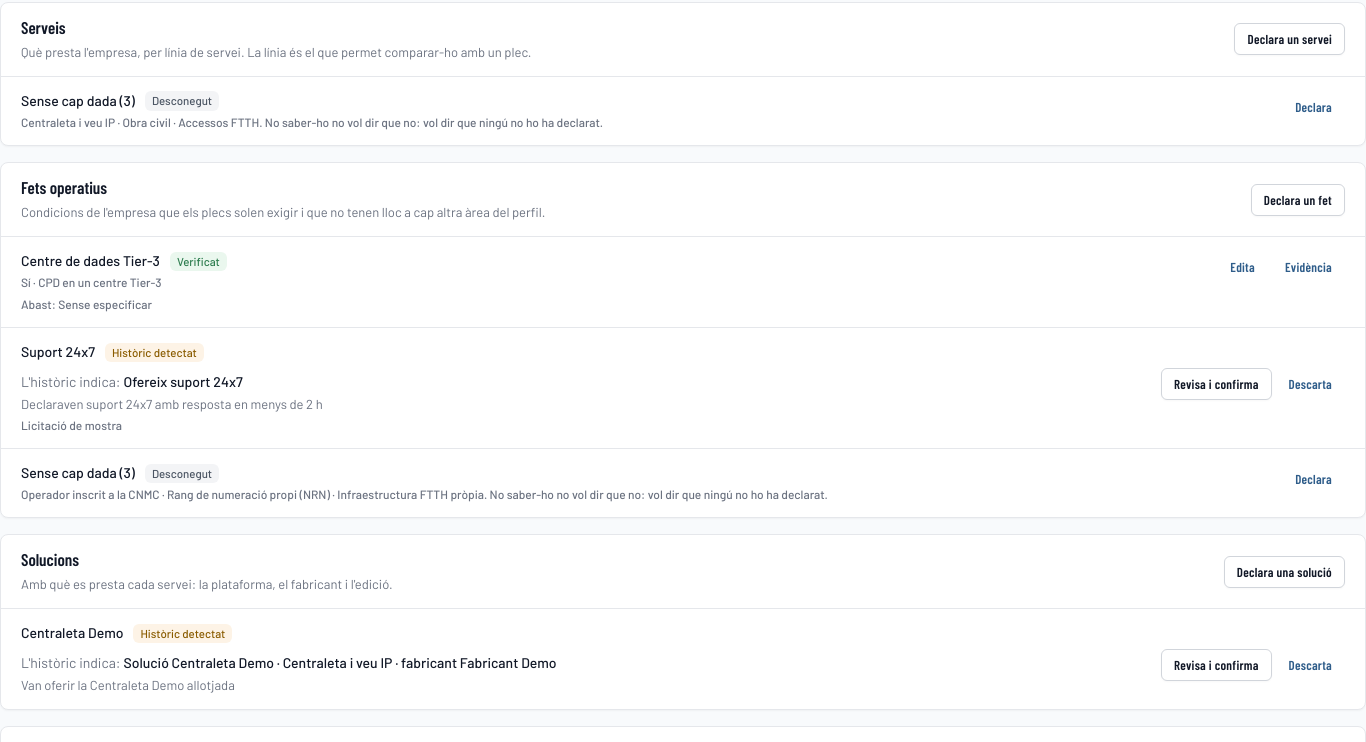
Scenario: Coneixement de l'empresa › confirmar un candidat el promou a declarat, mai a verificat, i ho diu abans
(page scrolled)
What coordinates should you click on to do the following:
click the button with aria-label "Revisa i confirma: Suport 24x7"
I would click on:
 (1216, 384)
Its box is [1161,368,1272,400].
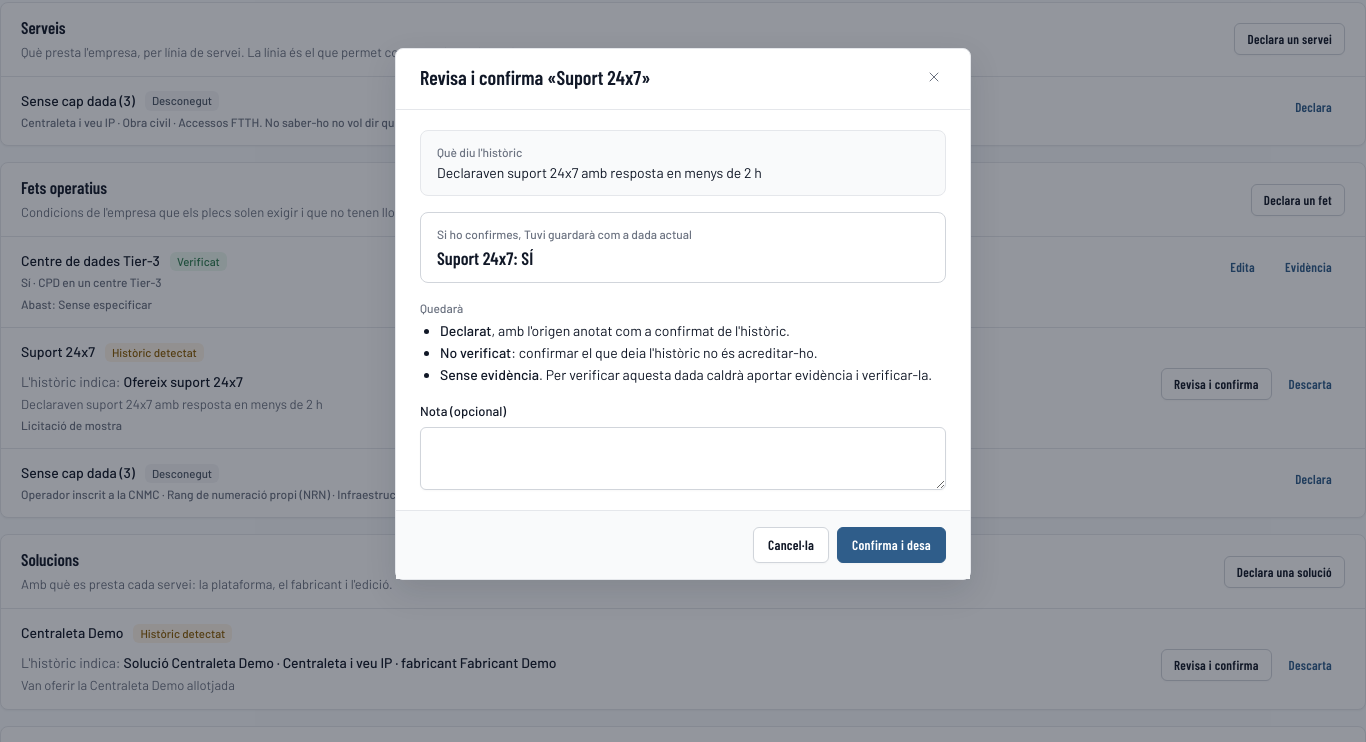
Now the dialog "Revisa i confirma «Suport 24x7»" shows "Declaraven suport 24x7", box [437,164,762,181]
Now the element showing "Suport 24x7: SÍ" is shown, box [437,247,533,269]
Now the list named "Com quedarà" shows "Per verificar aquesta dada caldrà aportar evidència i verificar-la.", box [539,366,932,382]
What coordinates should you click on to do the following:
click the button "Confirma i desa"
I would click on:
 (892, 545)
Its box is [837,527,946,563].
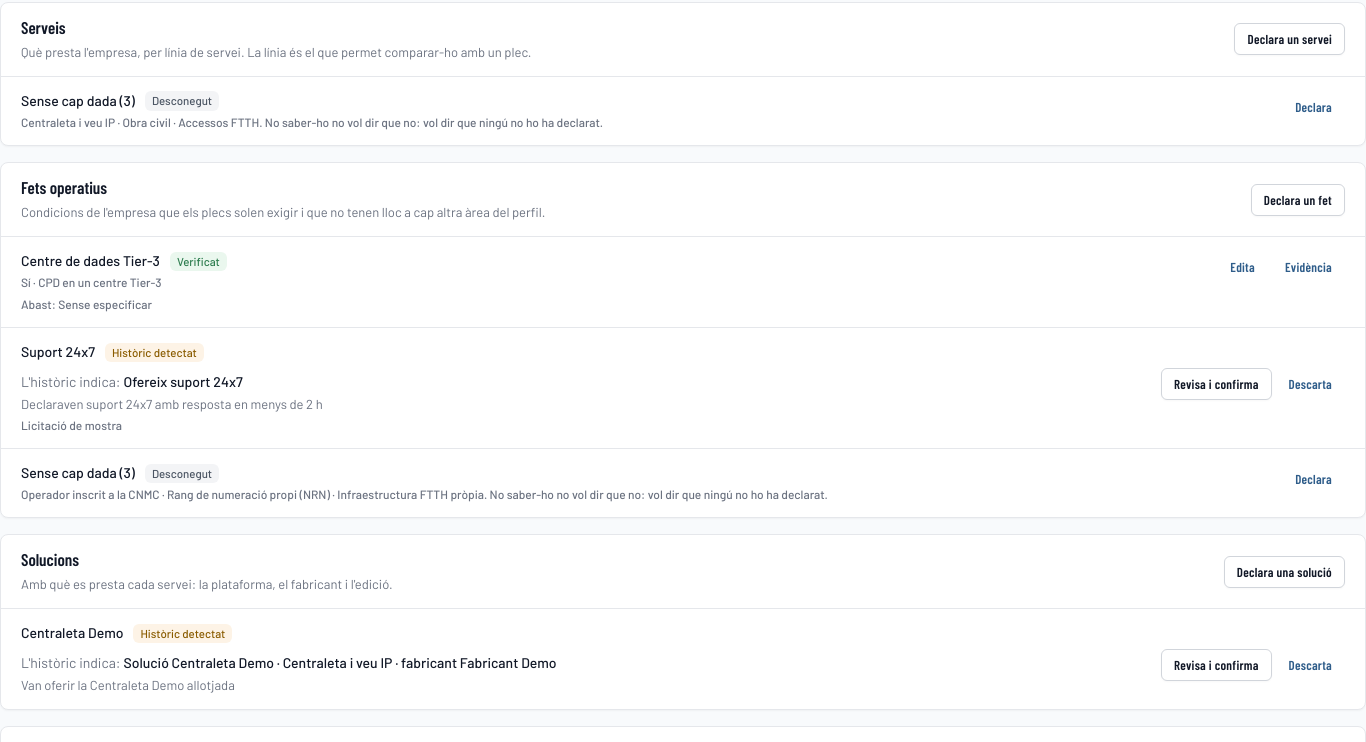
Now the dialog is gone
